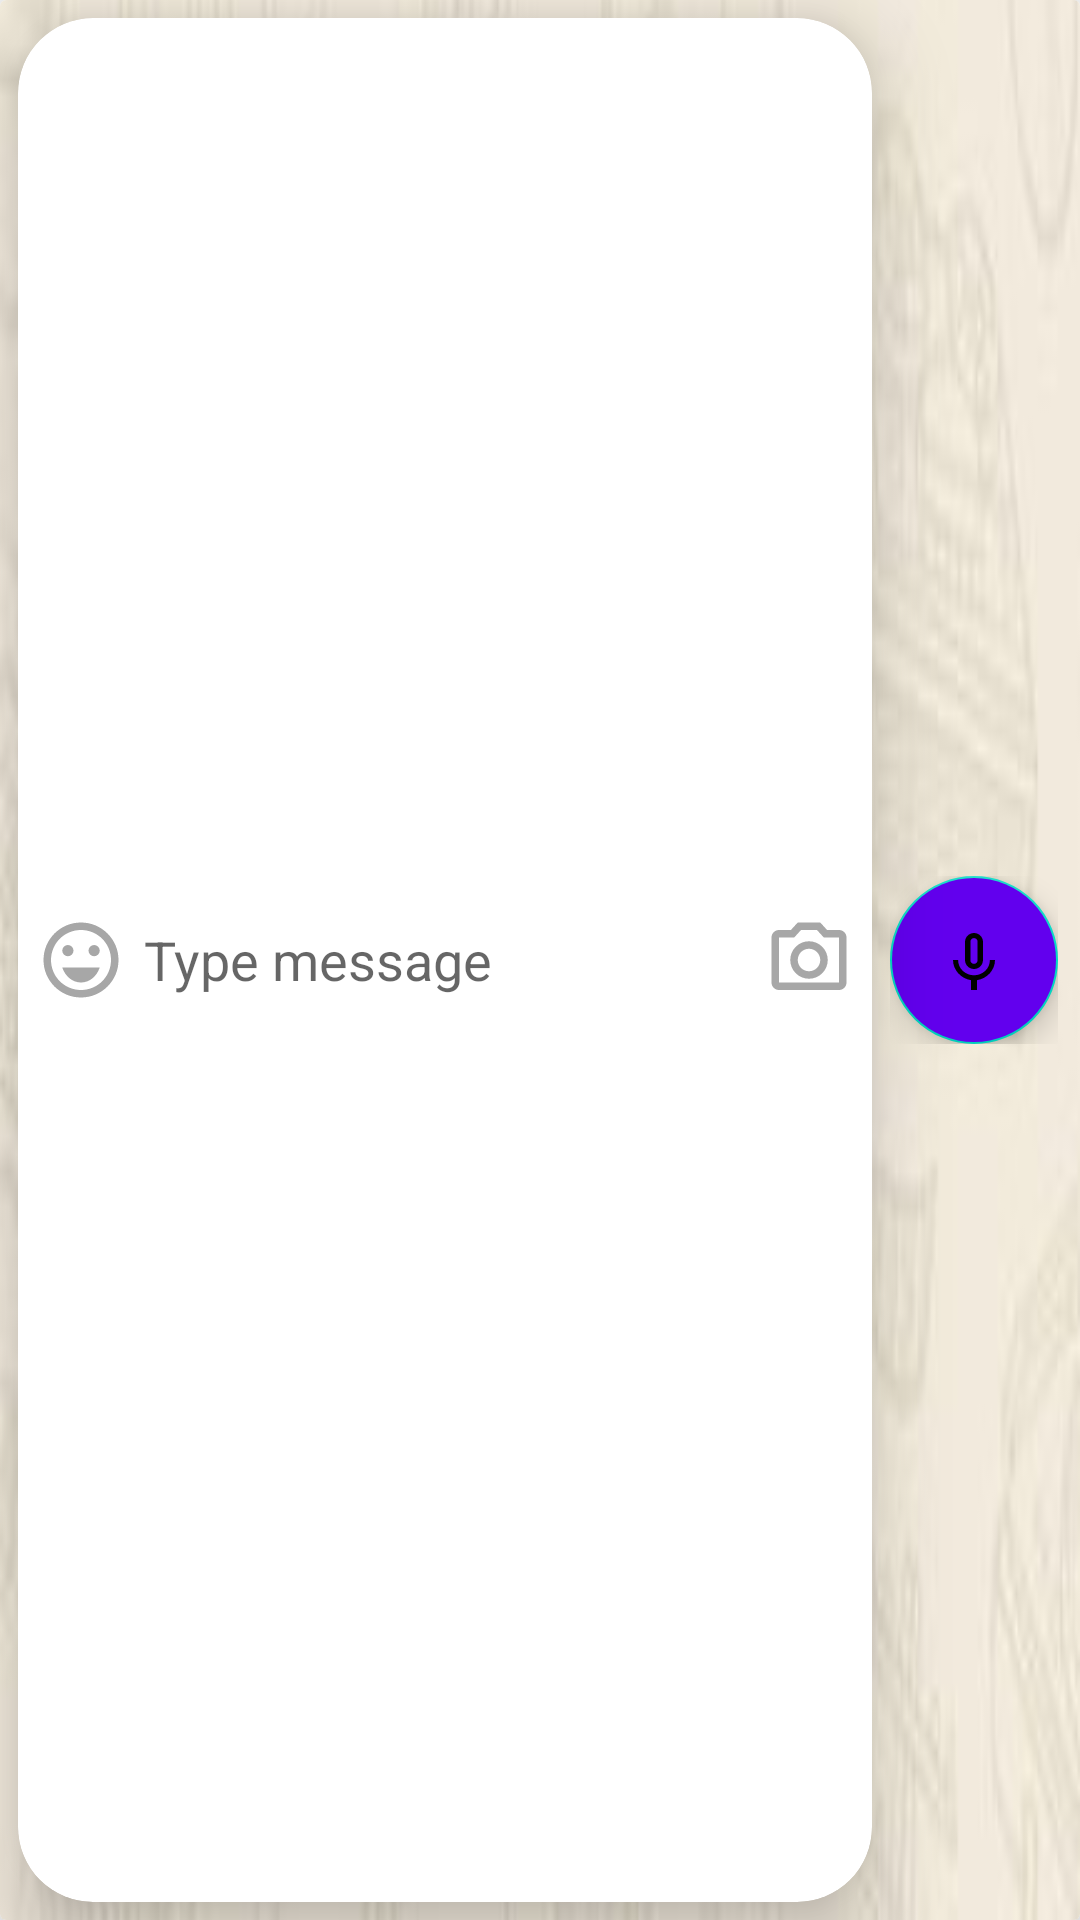

Where icons sit on this 1080×1920 app screen, as [x1=x1, y1=y1, x2=x2, y2=y2]:
camera: [x1=771, y1=922, x2=847, y2=990]
emoji: [x1=43, y1=922, x2=119, y2=998]
send voice: [x1=890, y1=876, x2=1058, y2=1044]
